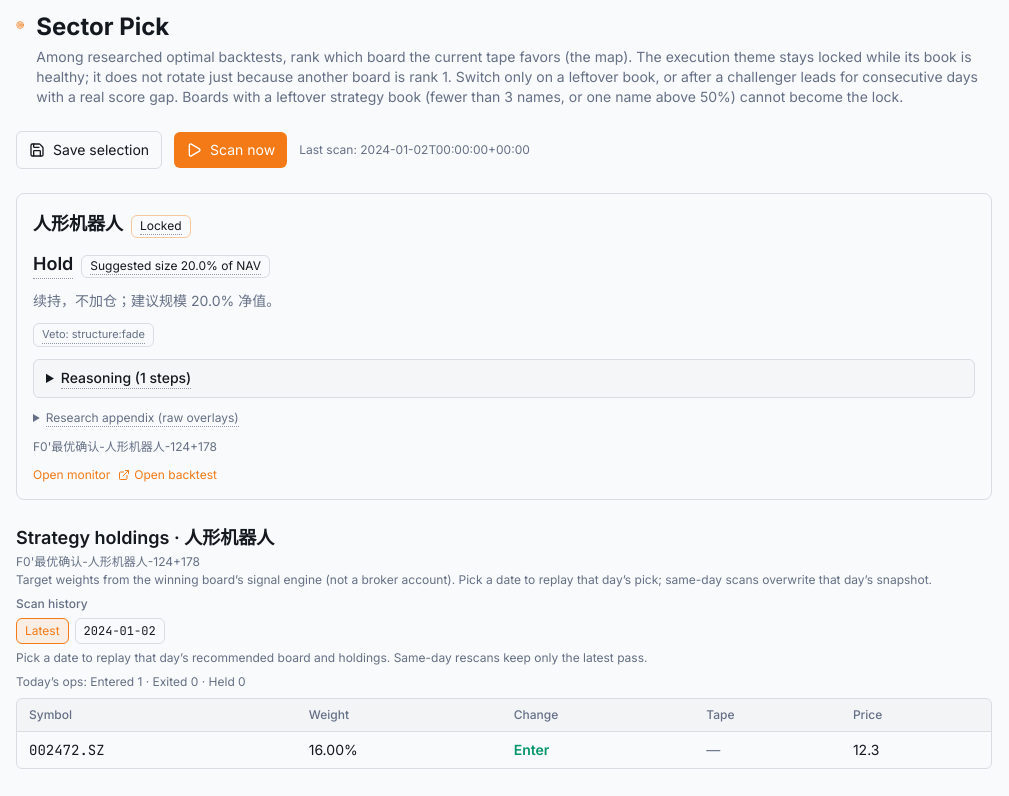
Test: SectorPick page › history day reloads that snapshot's holdings
The width and height of the screenshot is (1009, 796).
Step 1. Click the button "2024-01-02" → [120, 630], box x1=75 y1=618 x2=165 y2=644
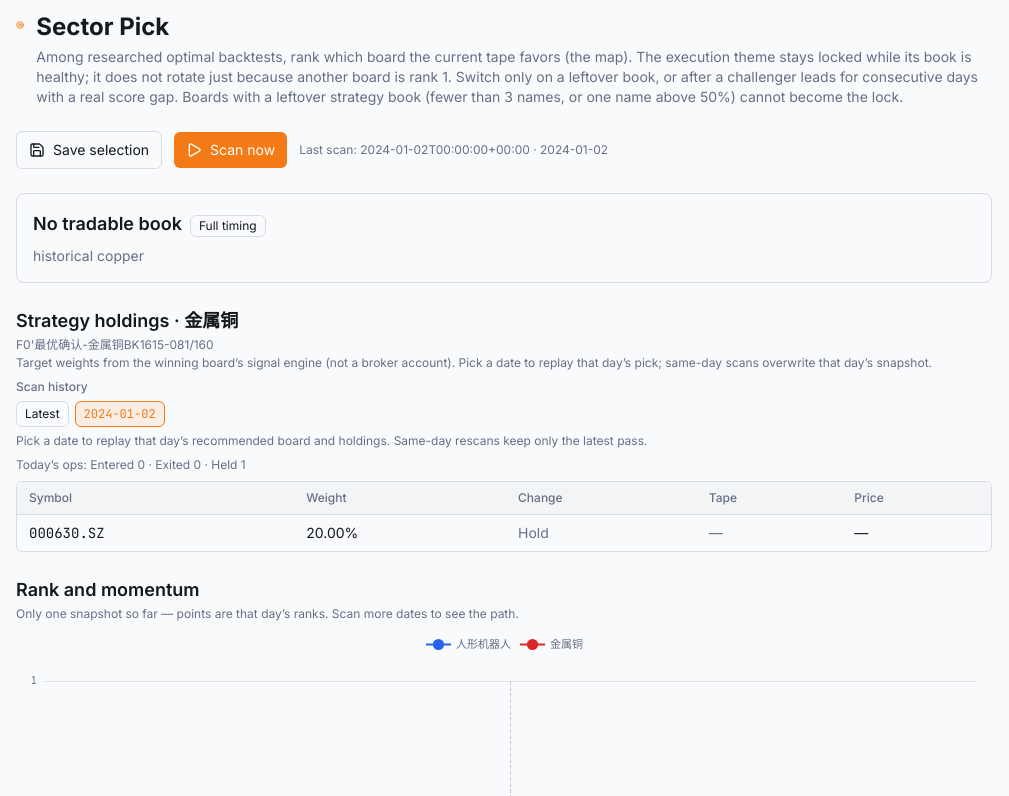
Expected: the text "000630.SZ" is shown, x1=17 y1=514 x2=294 y2=551
